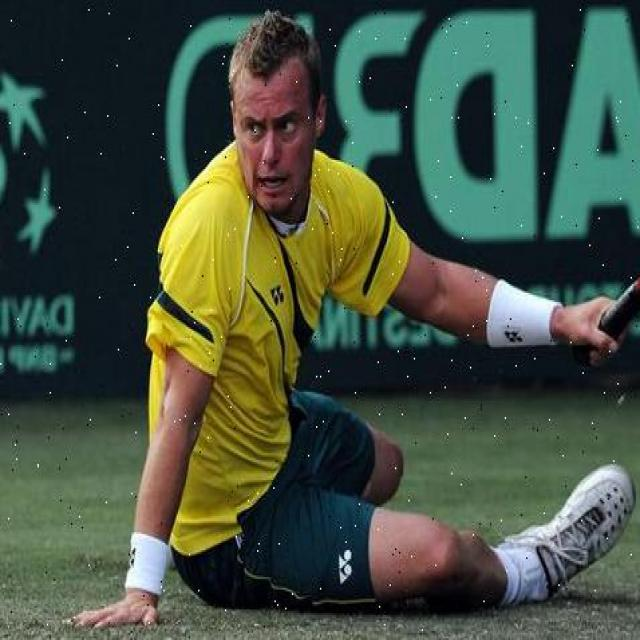fall: (109, 31, 605, 630)
